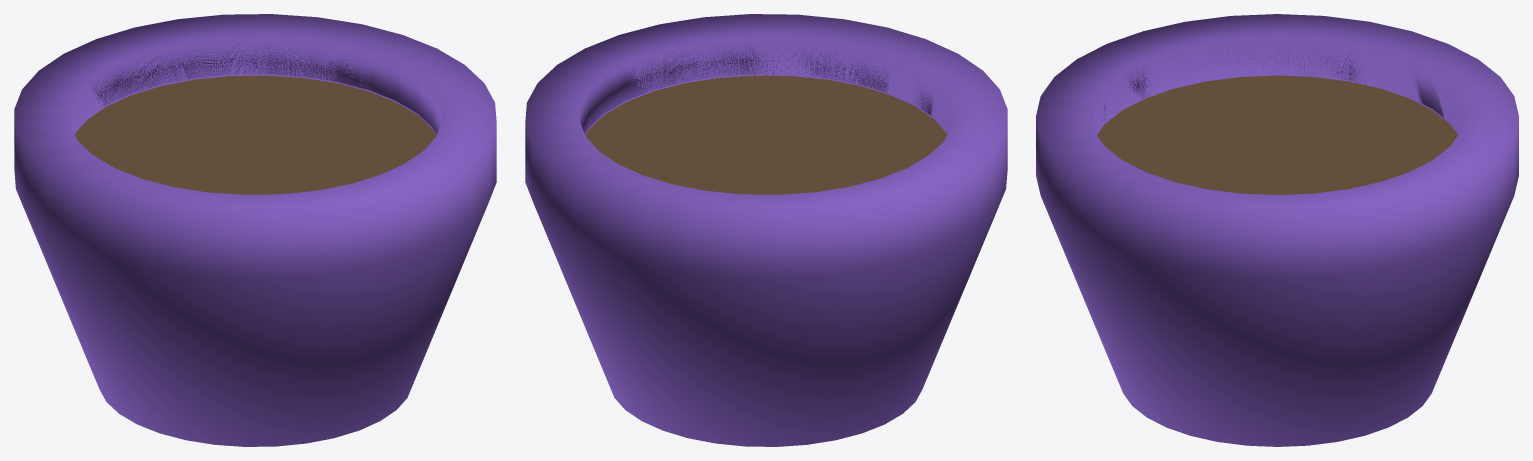
File: PLANTAR MACETA MACETA .fbx
3 renders of one model, left to right at view 1: azimuth 30°, elevation 25°; view 2: azimuth 150°, elevation 25°; view 3: azimuth 270°, elevation 25°, orthographic.
Parts seen in each view (by area): view 1: Circle.010, Circle.008; view 2: Circle.010, Circle.008; view 3: Circle.010, Circle.008.
Part boxes in pixels (x1=…): Circle.010: x1=14, y1=14, x2=496, y2=446; Circle.008: x1=74, y1=75, x2=436, y2=194; Circle.010: x1=525, y1=14, x2=1007, y2=446; Circle.008: x1=585, y1=75, x2=947, y2=194; Circle.010: x1=1036, y1=14, x2=1518, y2=446; Circle.008: x1=1097, y1=75, x2=1457, y2=194.
Bounding box in the file's own units: 25.69 × 15.52 × 25.69.
